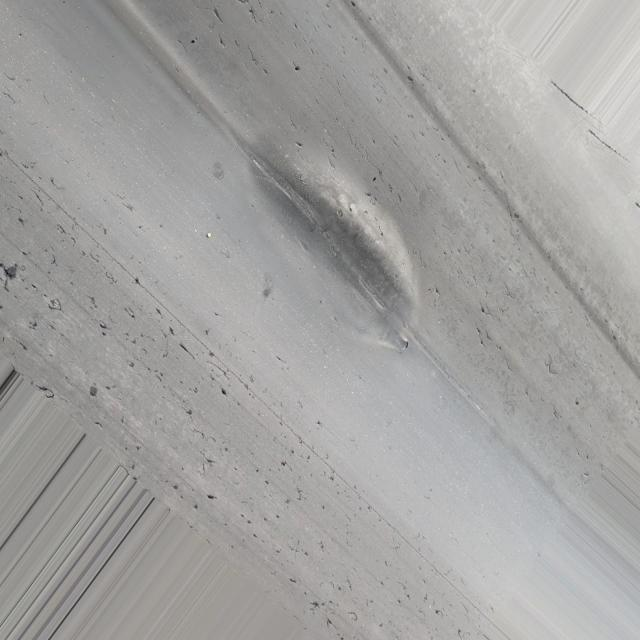impact damage: (240, 137, 426, 349)
